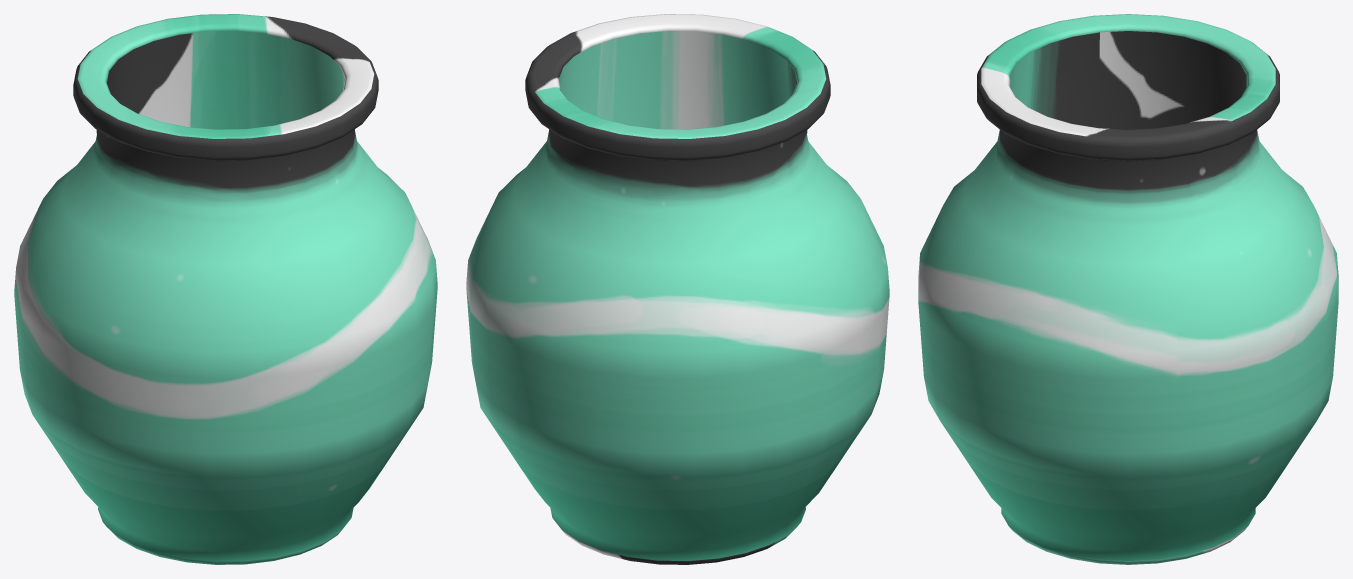
File: Pot01.fbx
3 renders of one model, left to right at view 1: azimuth 30°, elevation 25°; view 2: azimuth 150°, elevation 25°; view 3: azimuth 270°, elevation 25°, orthographic.
Visible parts, largest first — view 1: pCylinder1; view 2: pCylinder1; view 3: pCylinder1.
Boxes of the visible parts, <box> form: pCylinder1: <box>14,14,437,564</box>; pCylinder1: <box>466,14,889,564</box>; pCylinder1: <box>918,14,1338,564</box>.
Bounding box in the file's own units: 0.522 × 0.5966 × 0.5182.
